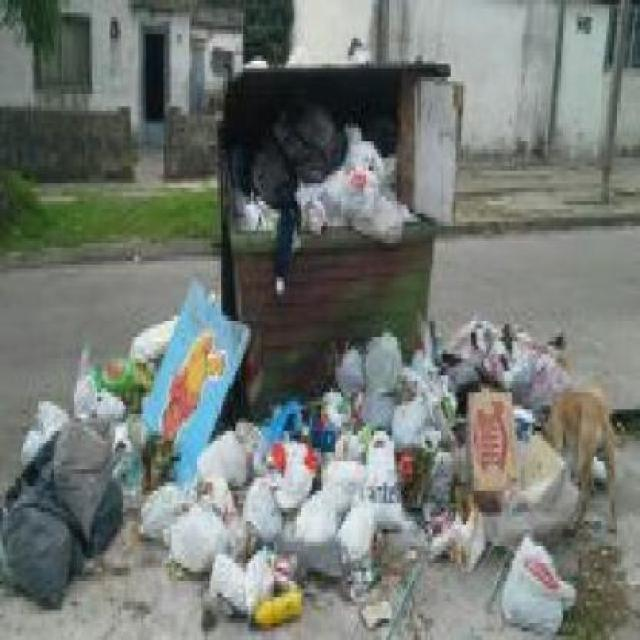garbage: (257, 401, 541, 546), (231, 108, 410, 257), (134, 311, 250, 512), (0, 406, 110, 594), (336, 332, 559, 400), (180, 529, 298, 623), (505, 546, 574, 632)
